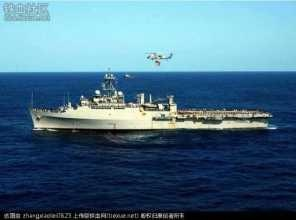airplane: (141, 51, 184, 69)
warship: (23, 74, 278, 137)
